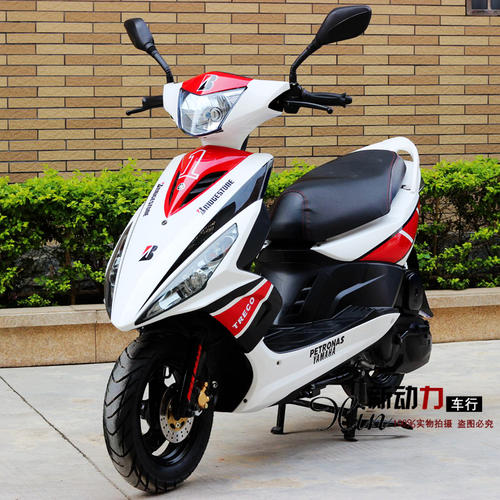motor: (84, 59, 436, 474)
